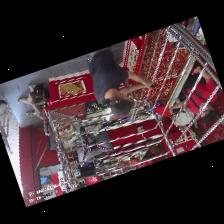person: (89, 46, 153, 114), (186, 71, 215, 113)
